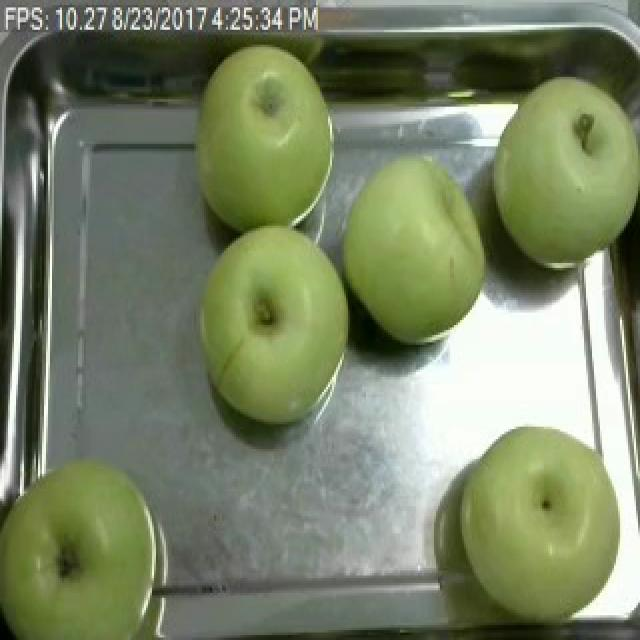50-_ripeness: (480, 69, 640, 269), (457, 425, 620, 616), (0, 456, 164, 640), (202, 219, 352, 415), (344, 152, 489, 342), (194, 47, 339, 225)
